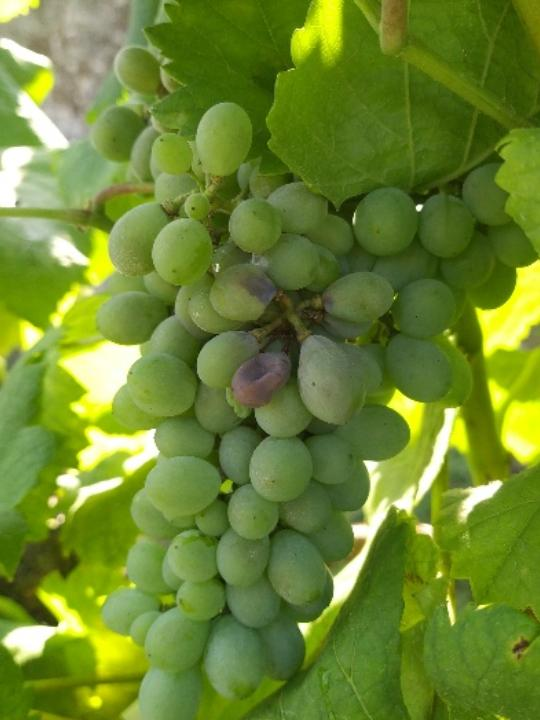grape: (94, 51, 537, 720)
